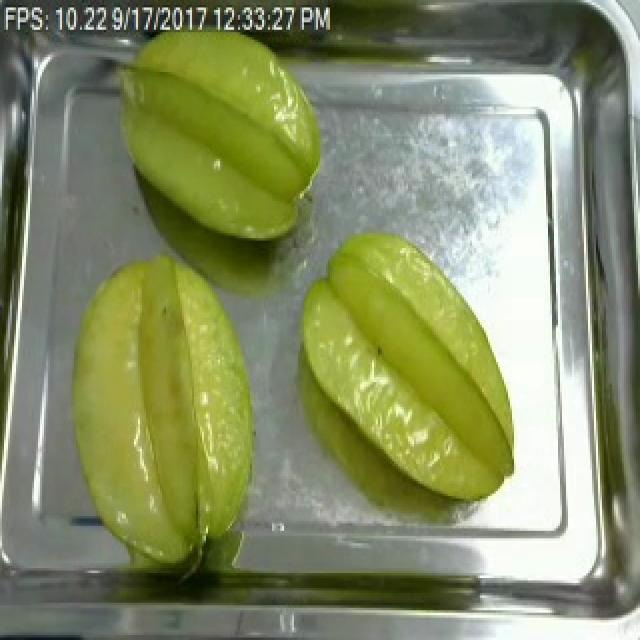fruit: (50, 241, 270, 583), (286, 226, 524, 508), (100, 17, 332, 253)
